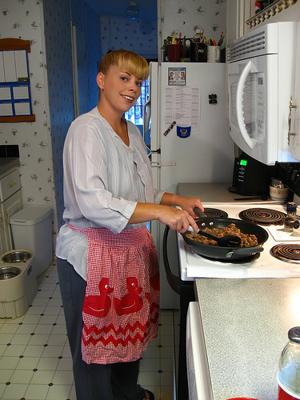person: (55, 48, 204, 400)
